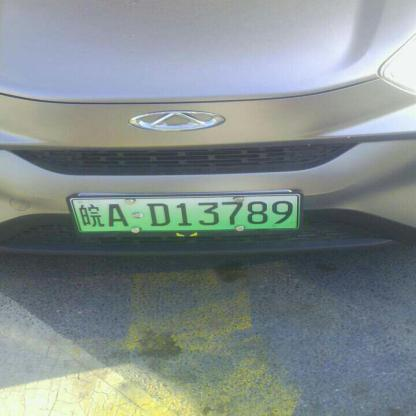lp: (72, 194, 299, 230)
